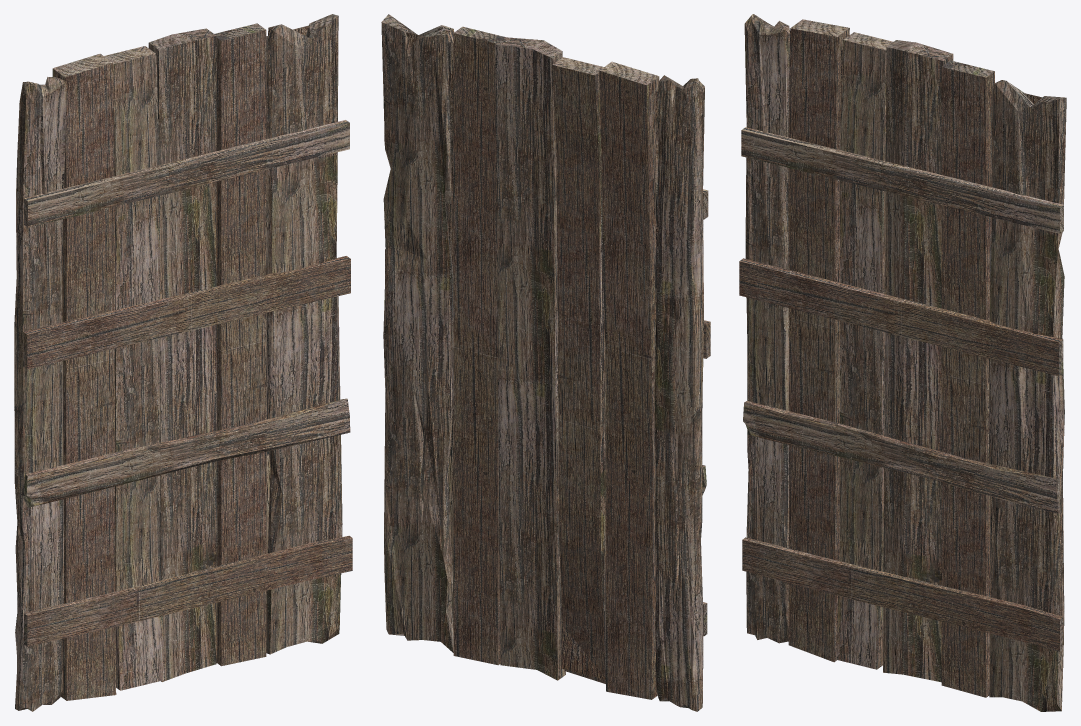
File: WoodWall_5.fbx
3 renders of one model, left to right at view 1: azimuth 30°, elevation 25°; view 2: azimuth 150°, elevation 25°; view 3: azimuth 330°, elevation 25°, orthographic.
Parts seen in each view (by area): view 1: 3D_WoodWall5.mo; view 2: 3D_WoodWall5.mo; view 3: 3D_WoodWall5.mo.
Boxes of the visible parts, x1,y1,x2,y2 form: 3D_WoodWall5.mo: [14, 14, 352, 711]; 3D_WoodWall5.mo: [381, 14, 710, 711]; 3D_WoodWall5.mo: [739, 14, 1066, 711].
Size of the model in its own units: 225 by 420 by 26.49.
Materials: 1 (1 with a texture image).
